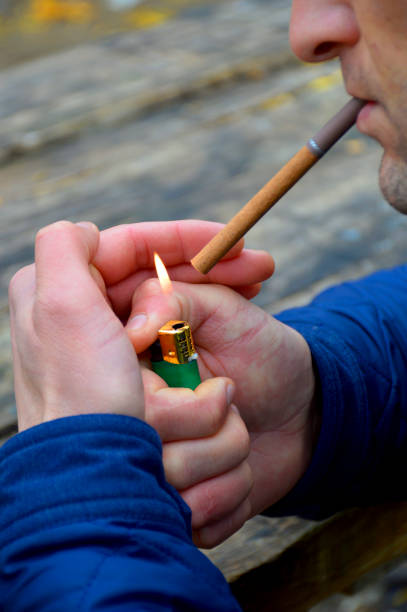cigarette: (188, 99, 366, 279)
